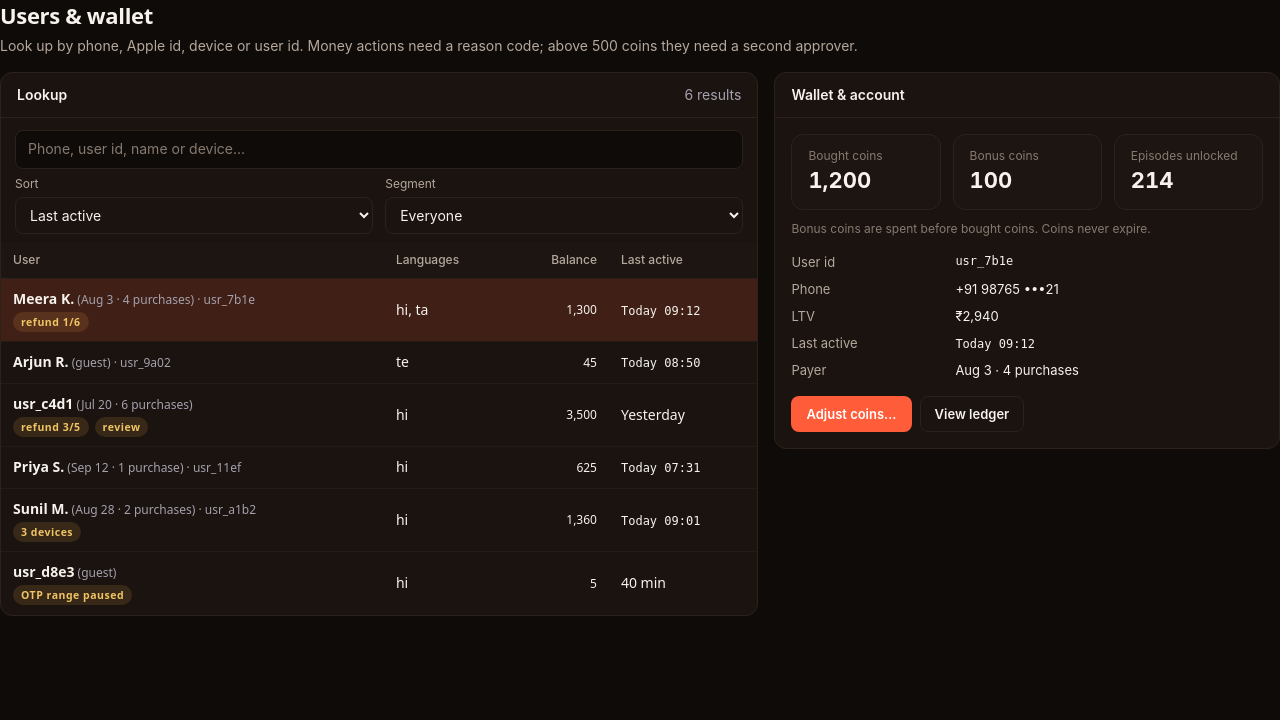
Test: Users view — coin adjustment dialog (dual control) › reconciles a small adjustment against the server's reply (#026)
Expected: the text "Meera K." is shown, x1=13 y1=289 x2=74 y2=308
Click the button "Adjust coins…".
click(852, 414)  # box x1=791 y1=396 x2=912 y2=432
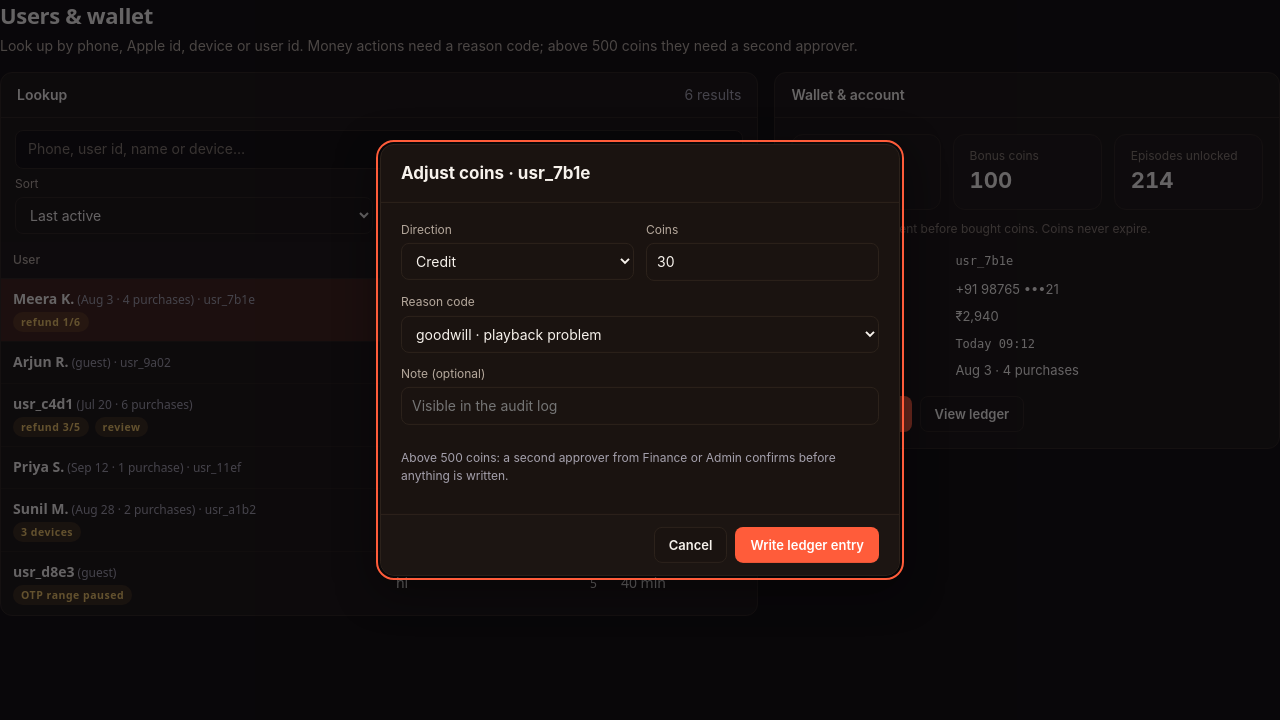
Click the button "Write ledger entry".
click(807, 545)  # box x1=735 y1=527 x2=879 y2=563
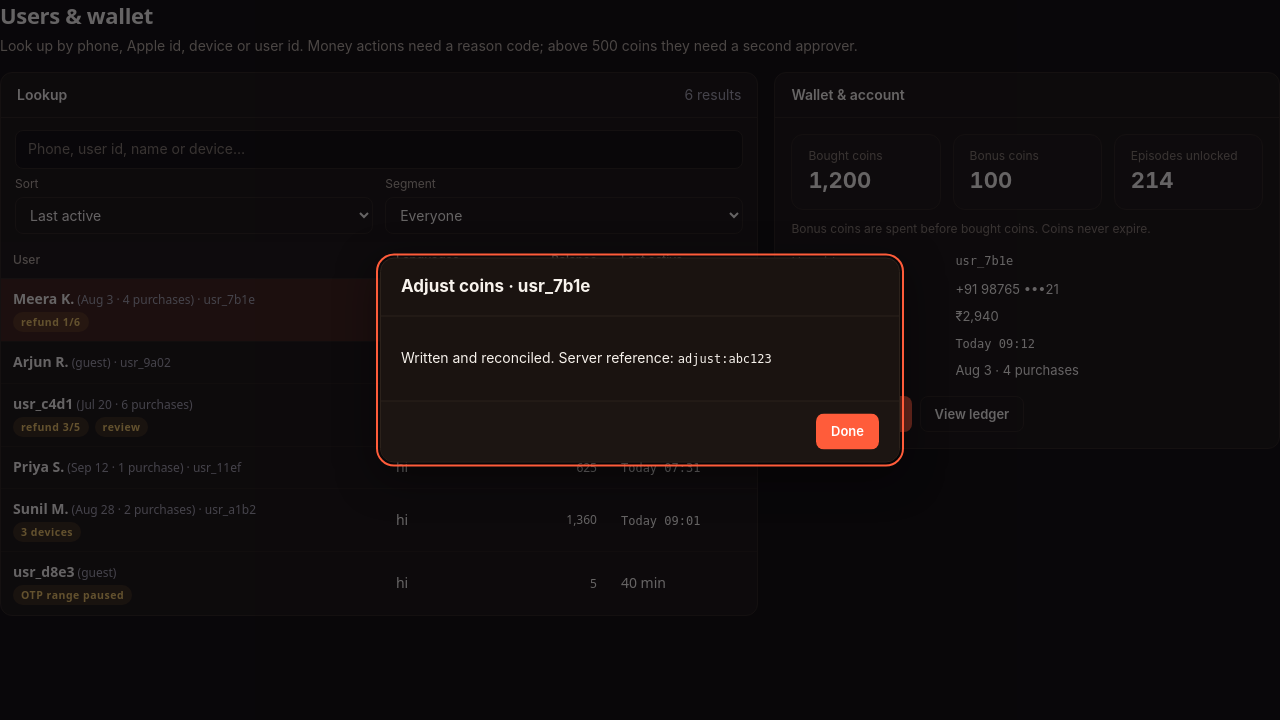
Expected: the text "adjust:abc123" is shown, x1=678 y1=352 x2=772 y2=366
